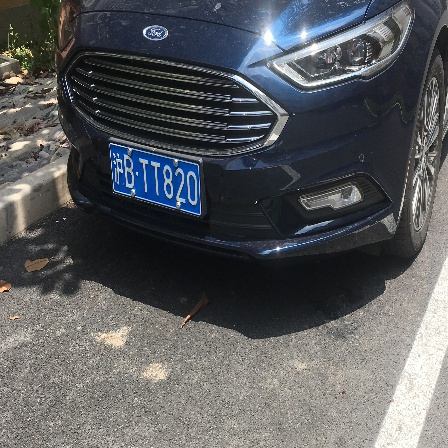plate: (104, 141, 210, 222)
